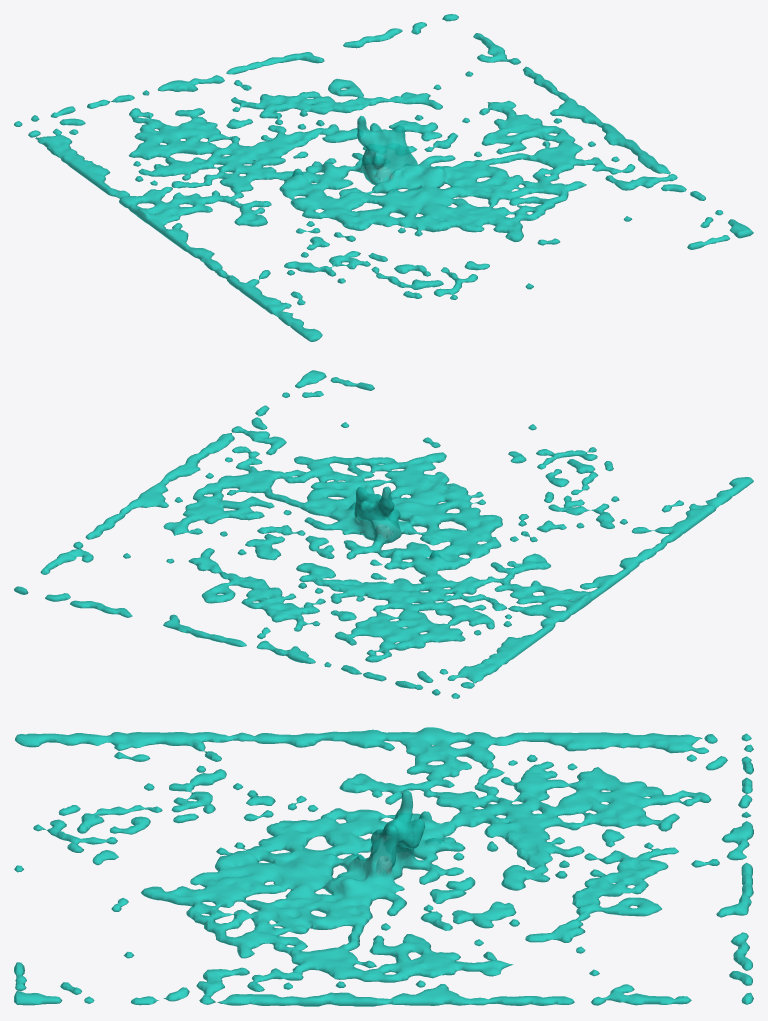
3 renders of one model, top to bottom at view 1: azimuth 30°, elevation 25°; view 2: azimuth 150°, elevation 25°; view 3: azimuth 270°, elevation 25°, orthographic. The views are drawn at different scales.
Visible parts, largest first — view 1: Liquid_Domain; view 2: Liquid_Domain; view 3: Liquid_Domain.
Part boxes in pixels (x1,y1,x2,y2): Liquid_Domain: [14, 14, 753, 341]; Liquid_Domain: [14, 370, 753, 698]; Liquid_Domain: [14, 727, 753, 1006].
Size of the model in its own units: 12.43 by 1.65 by 14.41.
